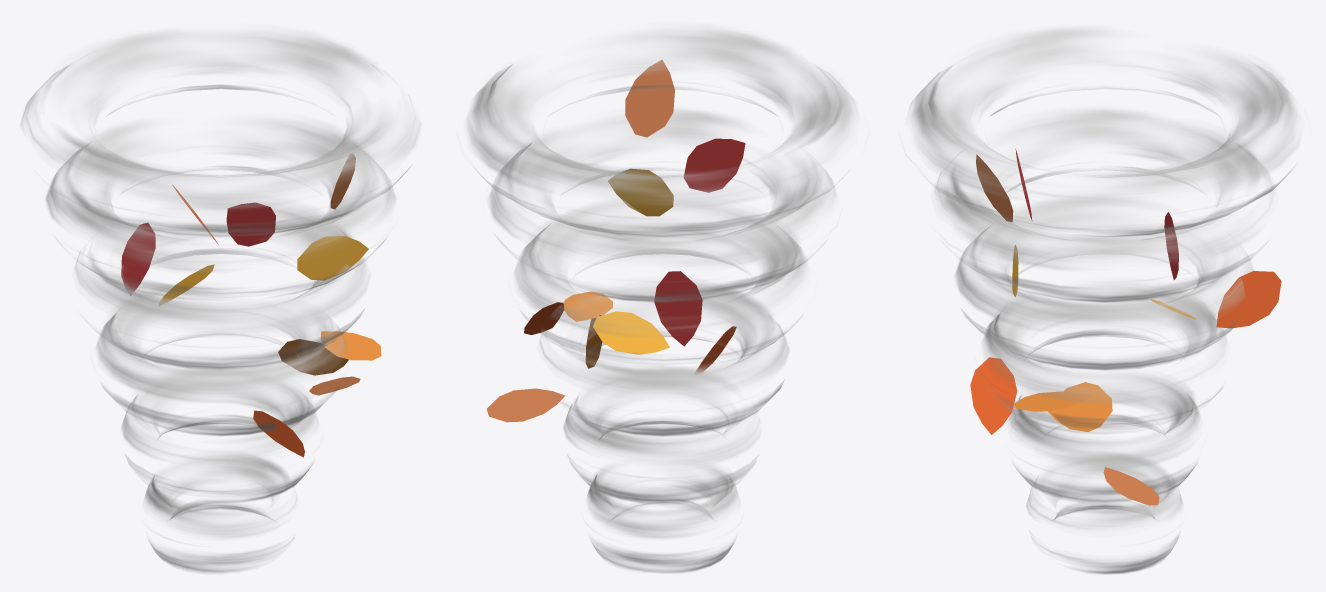
File: whirl.glb
3 views of the same model, side by side, from view 1: azimuth 30°, elevation 25°; view 2: azimuth 150°, elevation 25°; view 3: azimuth 270°, elevation 25° (orthographic).
Visible parts, largest first — view 1: wind001, wind002, wind003, wind004, wind006, wind005, Object013, Object014, Object010, Object009, Object015, Object007 (+3 smaller); view 2: wind001, wind002, wind003, wind004, wind005, wind006, Object016, Object009, Object014, Object008, Object013, Object011 (+4 smaller); view 3: wind001, wind002, wind003, wind004, wind005, wind006, Object012, Object007, Object010, Object015, Object011, Object016 (+1 smaller).
Boxes of the visible parts, box(x1,y1,x2,y2) form: wind001: box(21, 29, 420, 236); wind002: box(46, 118, 395, 298); wind003: box(75, 200, 369, 369); wind004: box(97, 283, 346, 435); wind006: box(144, 452, 297, 572); wind005: box(121, 368, 318, 501); Object013: box(297, 236, 368, 280); Object014: box(226, 202, 275, 246); Object010: box(278, 339, 348, 375); Object009: box(121, 222, 155, 295); Object015: box(321, 331, 381, 360); Object007: box(253, 410, 304, 457); wind001: box(468, 25, 857, 237); wind002: box(489, 108, 835, 302); wind003: box(515, 199, 807, 360); wind004: box(540, 278, 789, 436); wind005: box(563, 365, 759, 503); wind006: box(587, 462, 739, 572); Object016: box(625, 60, 674, 137); Object009: box(654, 271, 702, 346); Object014: box(683, 138, 745, 192); Object008: box(593, 311, 669, 354); Object013: box(608, 168, 673, 216); Object011: box(487, 388, 565, 422); wind001: box(910, 26, 1299, 236); wind002: box(935, 108, 1274, 302); wind003: box(955, 195, 1253, 370); wind004: box(983, 281, 1227, 432); wind005: box(1009, 373, 1200, 502); wind006: box(1026, 451, 1182, 574); Object012: box(1216, 271, 1281, 328); Object007: box(970, 357, 1017, 434); Object010: box(1048, 382, 1112, 431); Object015: box(1013, 391, 1091, 411); Object011: box(1103, 467, 1159, 505); Object016: box(976, 154, 1013, 222).
Size of the model in its own units: 1 by 1.22 by 1.
6 materials, 1 textured.
